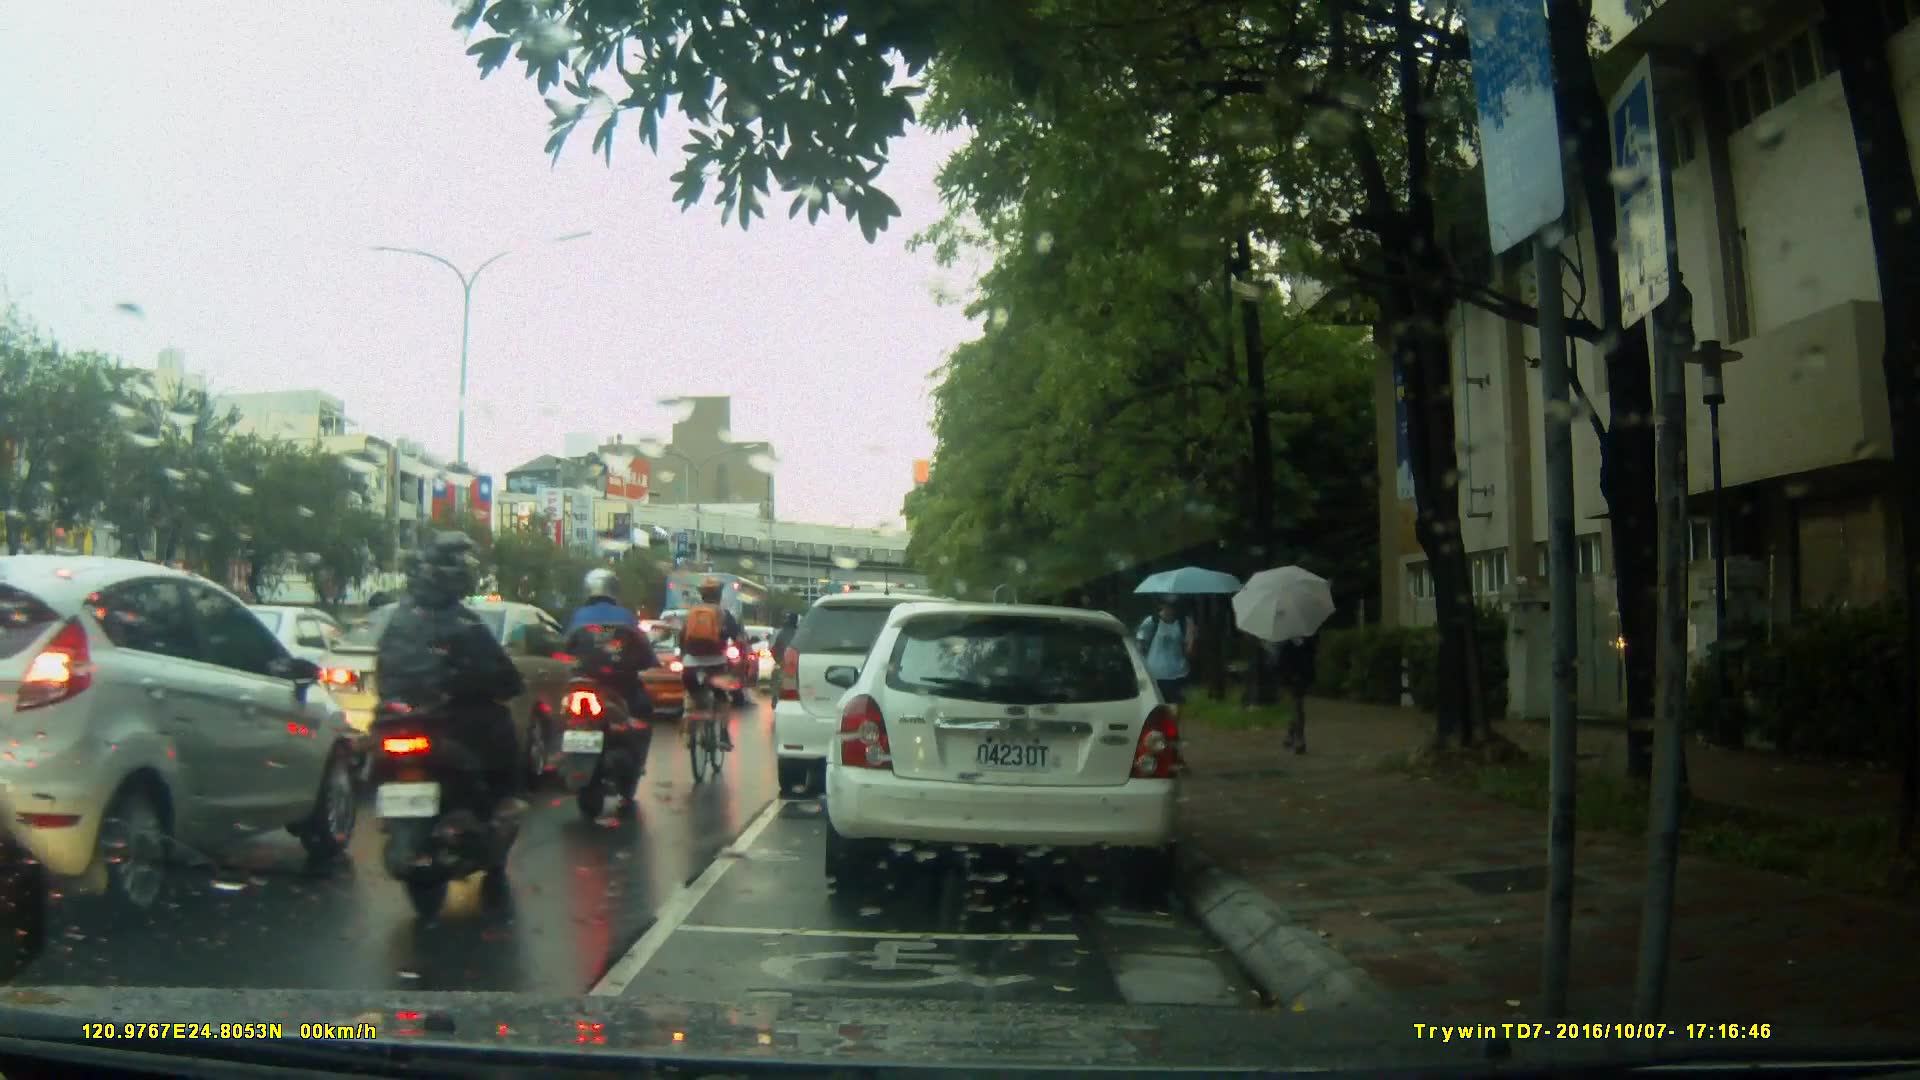pedestrian: (1145, 565, 1207, 790), (1270, 584, 1318, 756)
rider: (367, 534, 524, 926), (561, 570, 672, 821), (683, 579, 759, 787)
vehicle: (1, 552, 366, 924), (835, 594, 1194, 898), (292, 598, 617, 786), (776, 590, 1026, 784), (565, 620, 700, 721), (665, 570, 783, 673)
